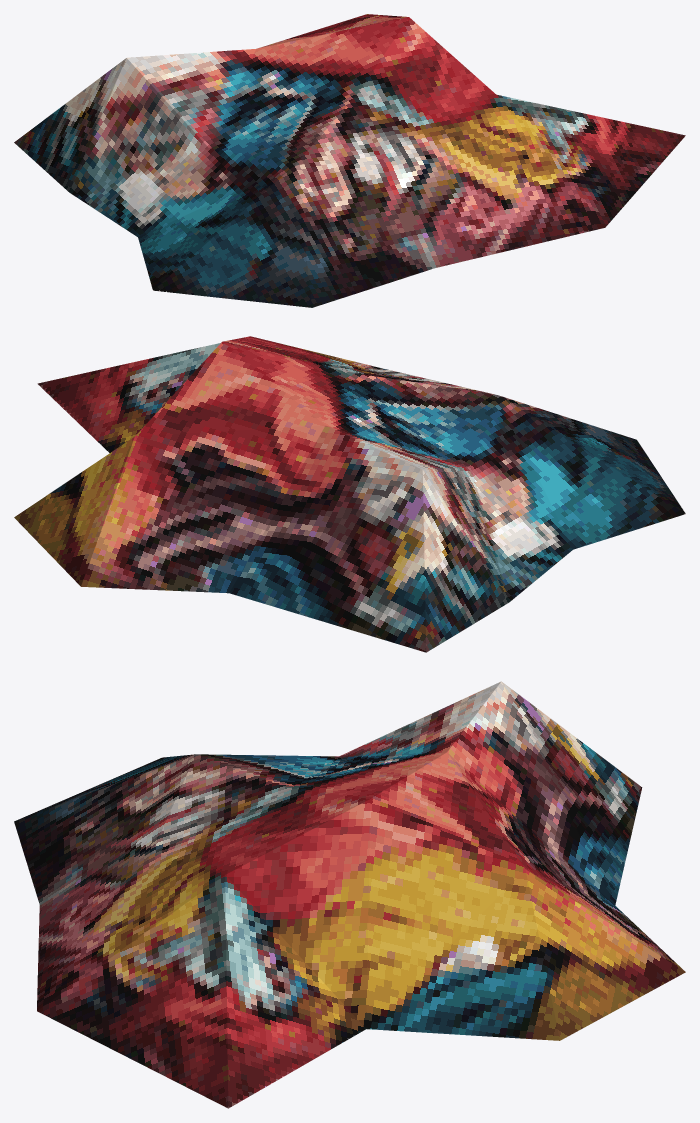
The model's file is pile-of-clothes.glb.
3 views of the same model, one above another, from view 1: azimuth 30°, elevation 25°; view 2: azimuth 150°, elevation 25°; view 3: azimuth 270°, elevation 25° (orthographic). The views are drawn at different scales.
Visible parts, largest first — view 1: pile-of-clothes-col; view 2: pile-of-clothes-col; view 3: pile-of-clothes-col.
Part boxes in pixels (box(x1,y1,x2,y2)): pile-of-clothes-col: box(14, 14, 685, 307); pile-of-clothes-col: box(14, 336, 685, 652); pile-of-clothes-col: box(14, 681, 685, 1108).
Bounding box in the file's own units: 0.8844 × 0.2 × 0.7155.
Materials: 1 (1 with a texture image).
